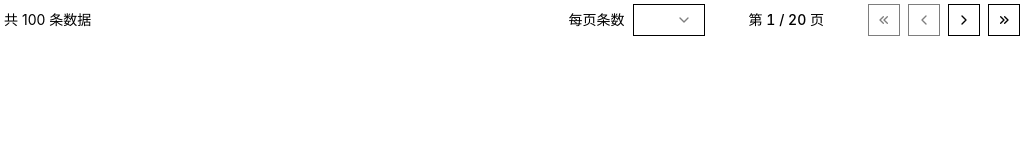
Test: exits editing on Escape or invalid input without navigating
Click the button named "跳转页码" at coordinates (786, 20), box [737,4,836,36]
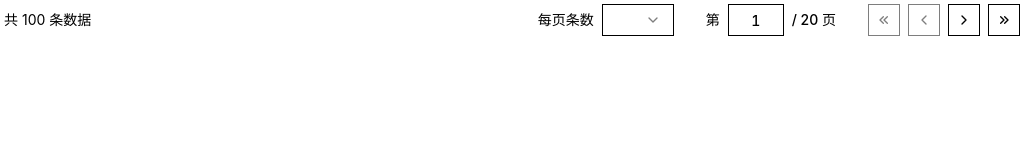
Type keys "8"
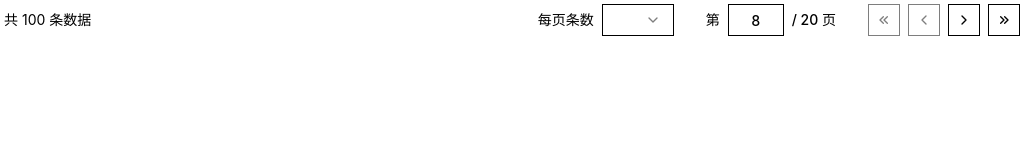
Press Escape
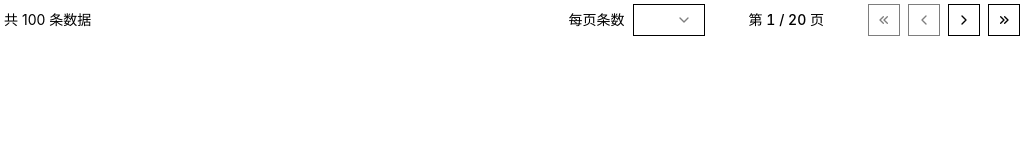
Expected: the button named "前往上一页" is disabled, [908,4,940,36]
Expected: the field is gone
Expected: the button named "跳转页码" reads "第 1 / 20 页"
Click the button named "跳转页码" at coordinates (786, 20), box [737,4,836,36]
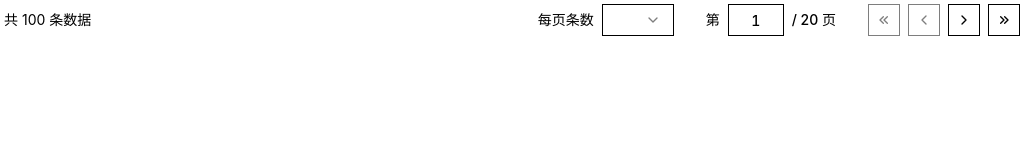
Type keys "2.5{Enter}"
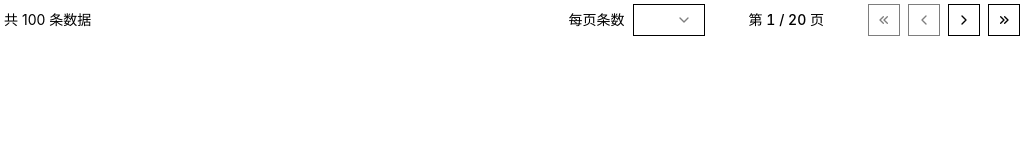
Expected: the button named "前往上一页" is disabled, [908,4,940,36]
Expected: the field is gone
Expected: the button named "跳转页码" reads "第 1 / 20 页", [737,4,836,36]
